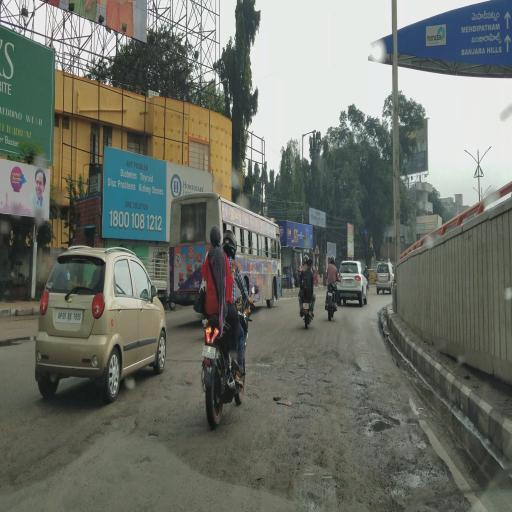street_light_0: (478, 144, 498, 174), (460, 146, 476, 180)
